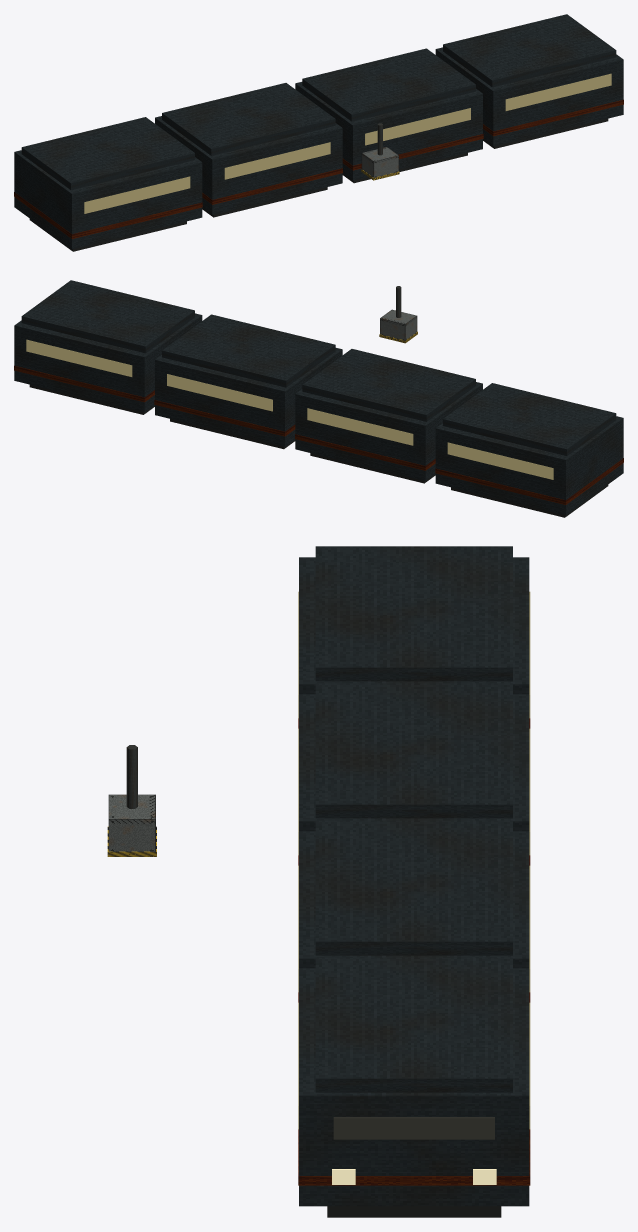
File: alcove.glb
The picture shows the model from 3 angles, top to bottom: view 1: azimuth 30°, elevation 25°; view 2: azimuth 150°, elevation 25°; view 3: azimuth 270°, elevation 25°; orthographic projection. The views are drawn at different scales.
Visible parts, largest first — view 1: train, press; view 2: train, press; view 3: train, press.
Part boxes in pixels (x1,y1,x2,y2): train: (14,14,623,251); press: (361,123,399,180); train: (14,280,623,517); press: (379,286,417,343); train: (298,546,530,1217); press: (107,745,156,856).
Size of the model in its own units: 27.18 by 4.8 by 9.
9 materials, 5 textured.
